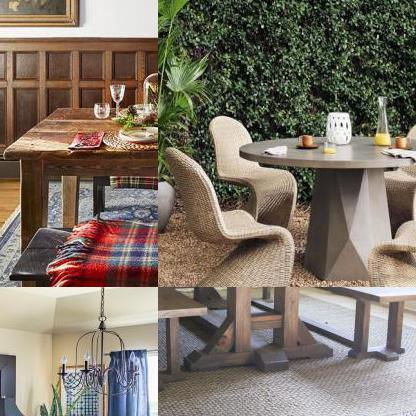table: (0, 96, 157, 278), (234, 129, 415, 285), (158, 287, 399, 379)
